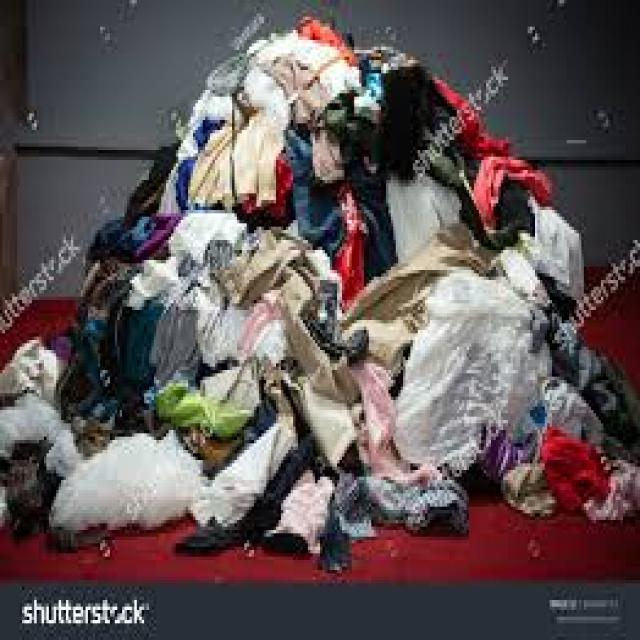Clothes -Biodegradable-: (0, 17, 640, 565)
